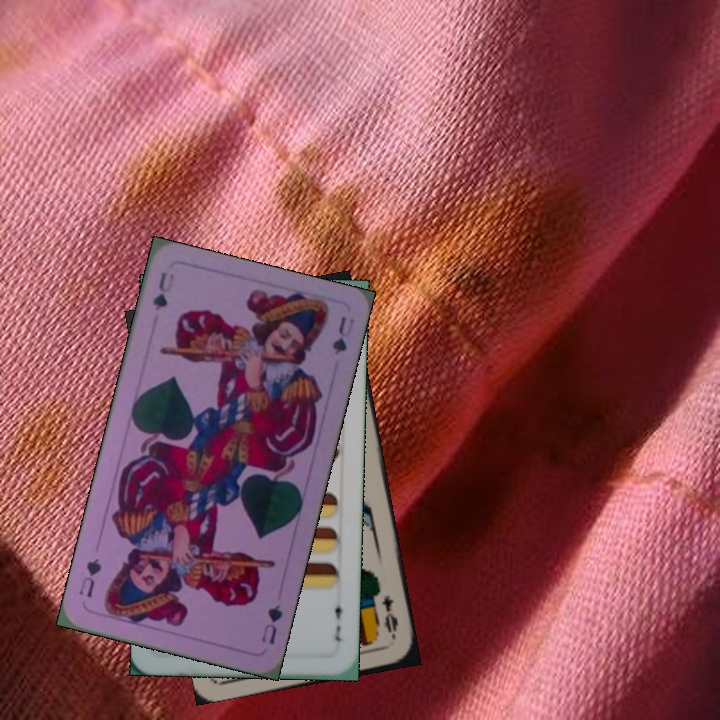E7: (330, 595, 346, 645)
EO: (378, 590, 401, 642)
GU: (257, 600, 286, 647), (148, 267, 177, 313)
